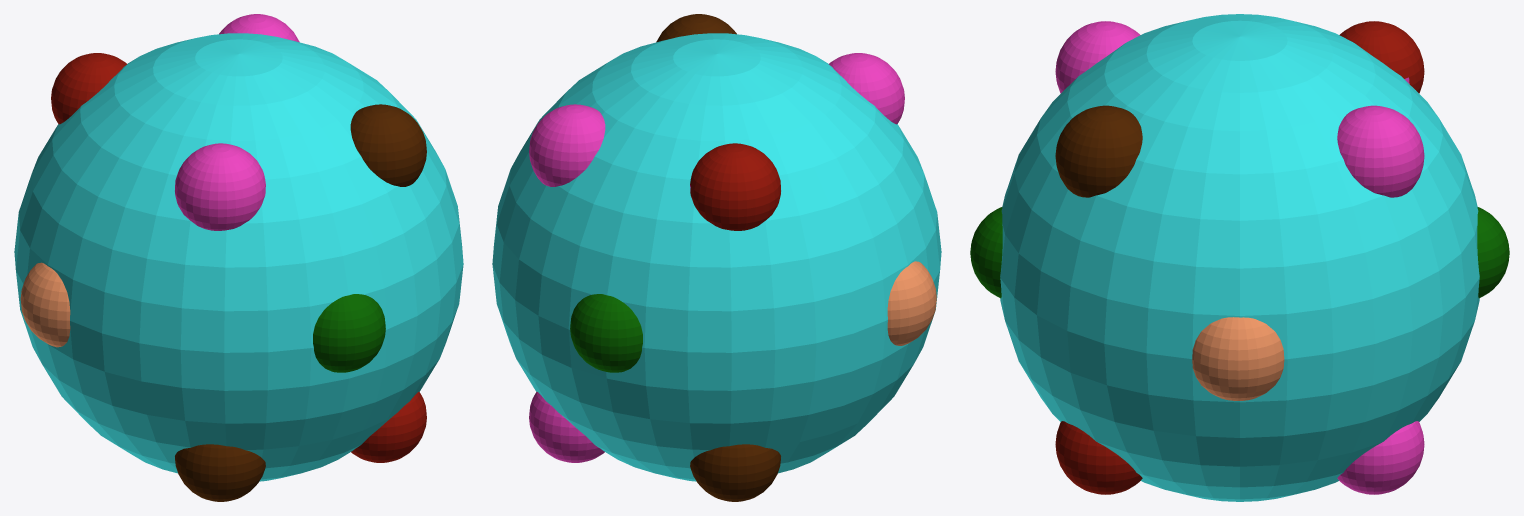
File: BigDropUltimate.fbx
The picture shows the model from 3 angles, left to right: view 1: azimuth 30°, elevation 25°; view 2: azimuth 150°, elevation 25°; view 3: azimuth 270°, elevation 25°; orthographic projection. The views are drawn at different scales.
Visible parts, largest first — view 1: Sphere.001, Sphere.002, Sphere.005, Sphere.004; view 2: Sphere.001, Sphere.002, Sphere.005, Sphere.004; view 3: Sphere.001, Sphere.002, Sphere.004, Sphere.005.
Boxes of the visible parts, bbox=[...] form: Sphere.001: bbox=[14, 33, 463, 481]; Sphere.002: bbox=[51, 14, 426, 501]; Sphere.005: bbox=[313, 294, 385, 372]; Sphere.004: bbox=[20, 262, 70, 347]; Sphere.001: bbox=[492, 33, 941, 481]; Sphere.002: bbox=[529, 14, 904, 501]; Sphere.005: bbox=[570, 294, 642, 372]; Sphere.004: bbox=[887, 261, 936, 345]; Sphere.001: bbox=[1000, 14, 1479, 501]; Sphere.002: bbox=[1055, 21, 1424, 494]; Sphere.004: bbox=[1192, 317, 1284, 400]; Sphere.005: bbox=[970, 207, 1509, 298].
Size of the model in its own units: 696 by 638 by 705.
